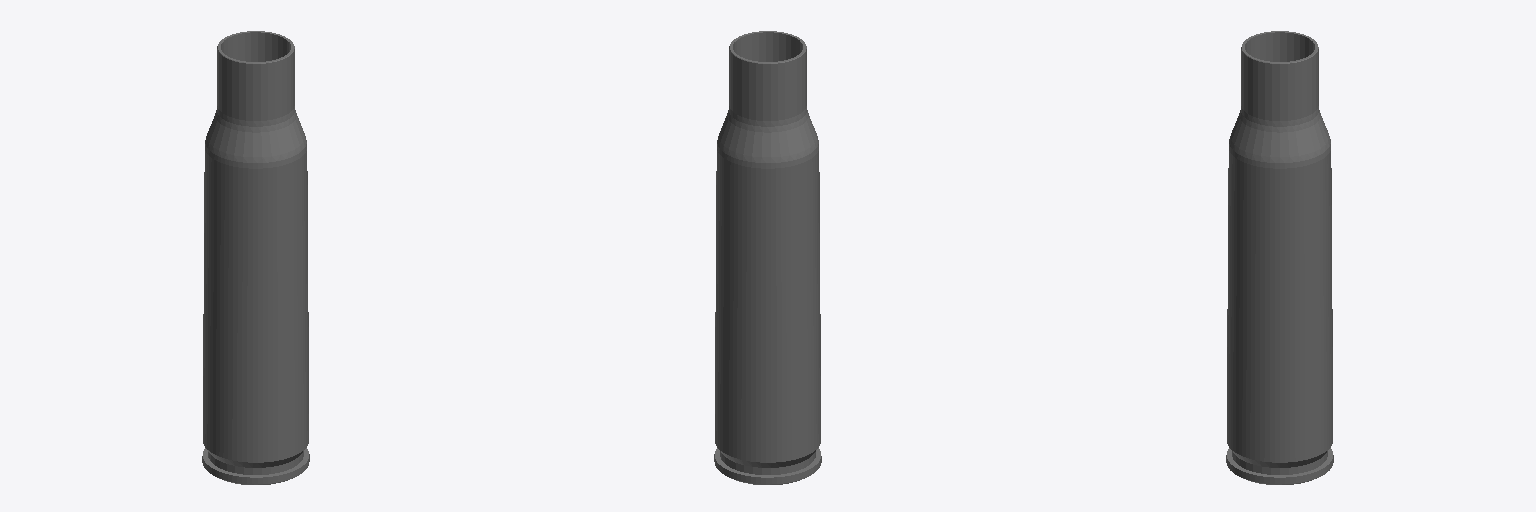
Rendered from 308Brass.obj.
The picture shows the model from 3 angles: view 1: azimuth 30°, elevation 25°; view 2: azimuth 150°, elevation 25°; view 3: azimuth 270°, elevation 25°; orthographic projection.
Visible parts, largest first — view 1: Default; view 2: Default; view 3: Default.
Part boxes in pixels (left/top/right/bottom): Default: left=202, top=31, right=309, bottom=484; Default: left=714, top=31, right=821, bottom=484; Default: left=1226, top=31, right=1333, bottom=484.
Bounding box in the file's own units: 11.93 × 51.31 × 11.93.